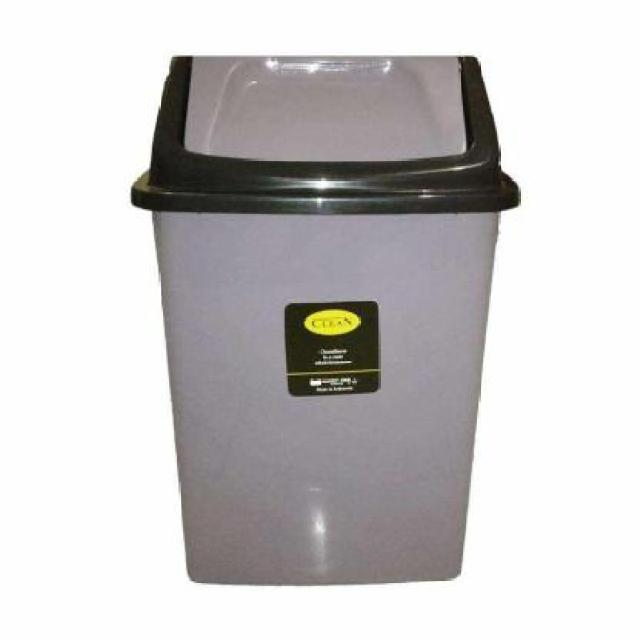garbage container: (123, 45, 551, 605)
